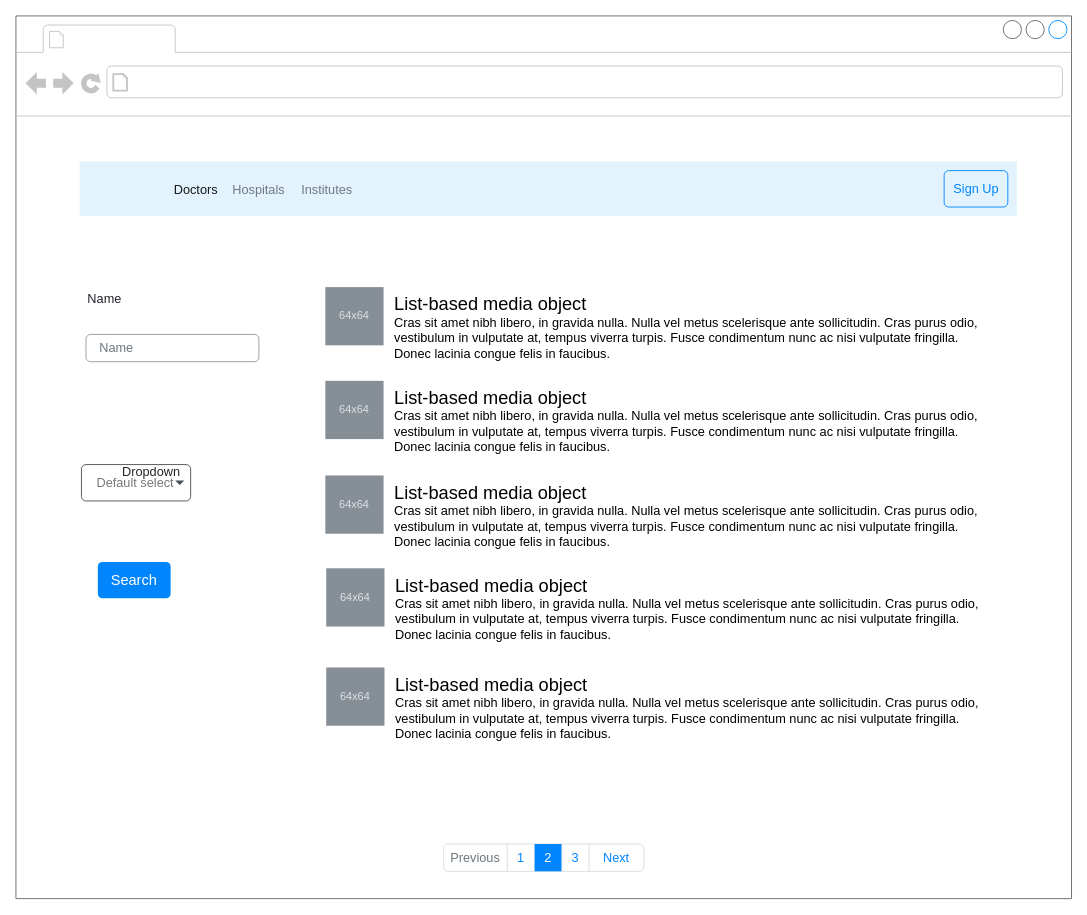
Some shapes in this 1087 by 915 pixel diagram are drawn without their labels. Each missing label, with the box of its shape:
doctor list: (70, 26, 171, 51)
https://www.opencare.com: (133, 70, 362, 94)
Open Care: (79, 161, 1016, 216)
